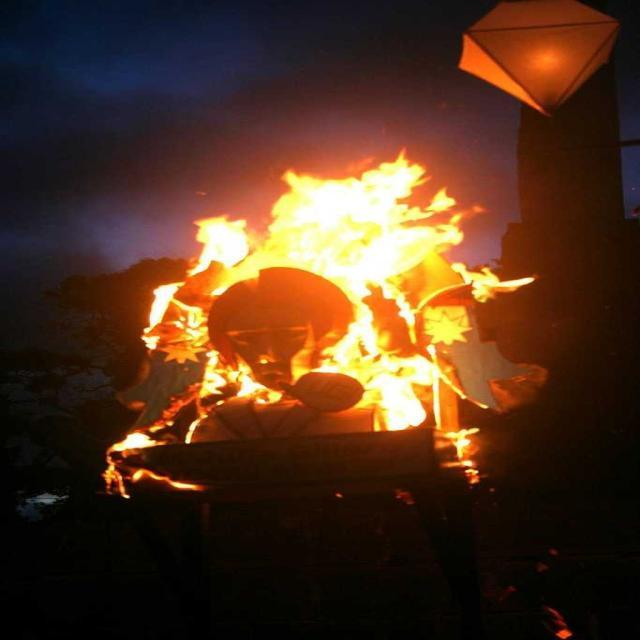Fire: (142, 167, 462, 489)
